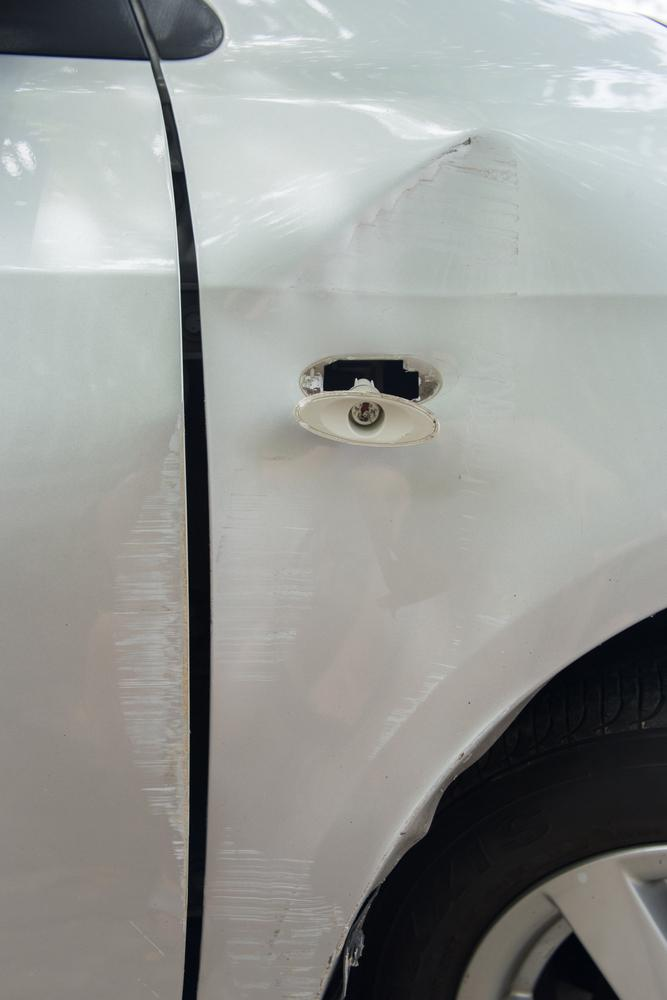dent: (212, 139, 667, 761)
scratch: (102, 408, 190, 906), (207, 472, 318, 705), (218, 825, 342, 1000)
